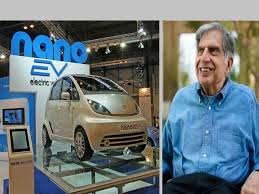Nano: (40, 75, 149, 158)
